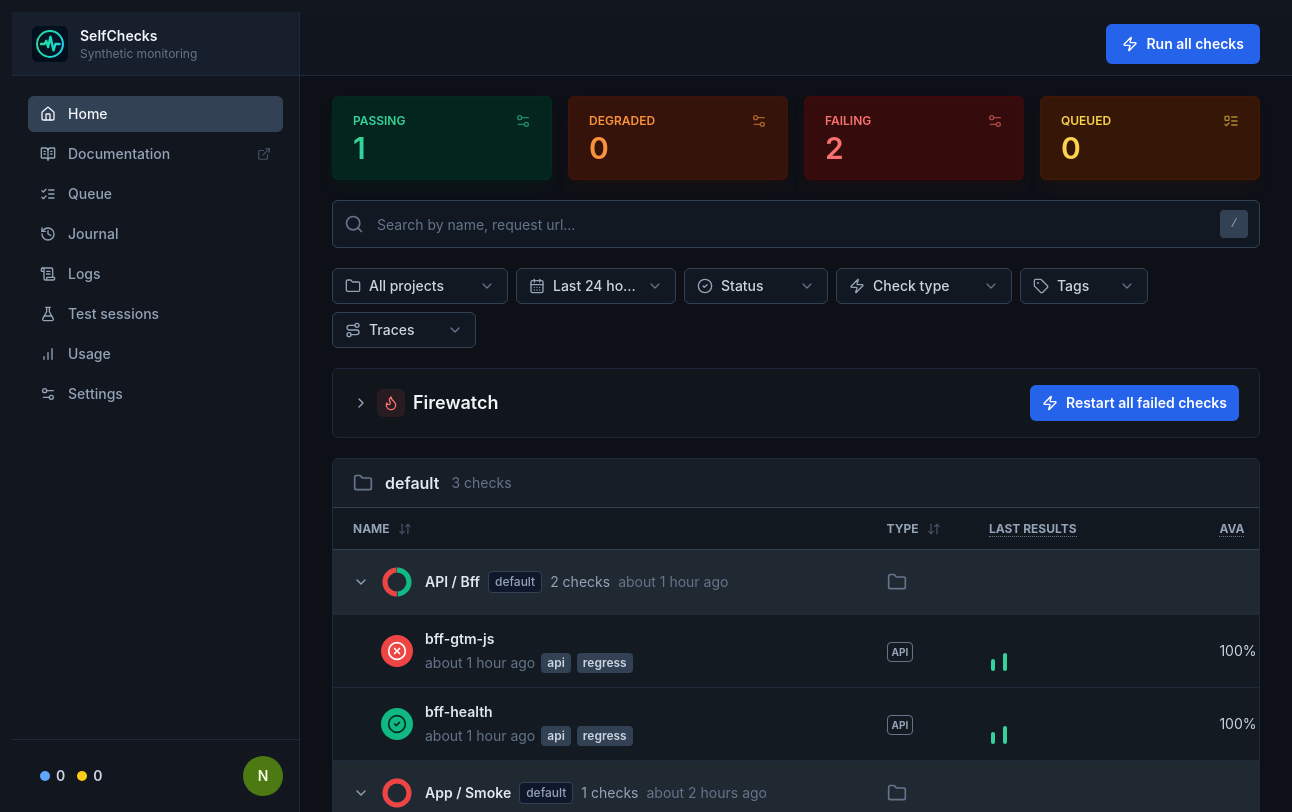
DashboardPage › queues all failed checks from Firewatch even when no rows are newly failing
The image size is (1292, 812).
What coordinates should you click on to do the following:
click the button "Restart all failed checks"
I would click on:
 (1134, 403)
Its box is [1030,385,1239,421].
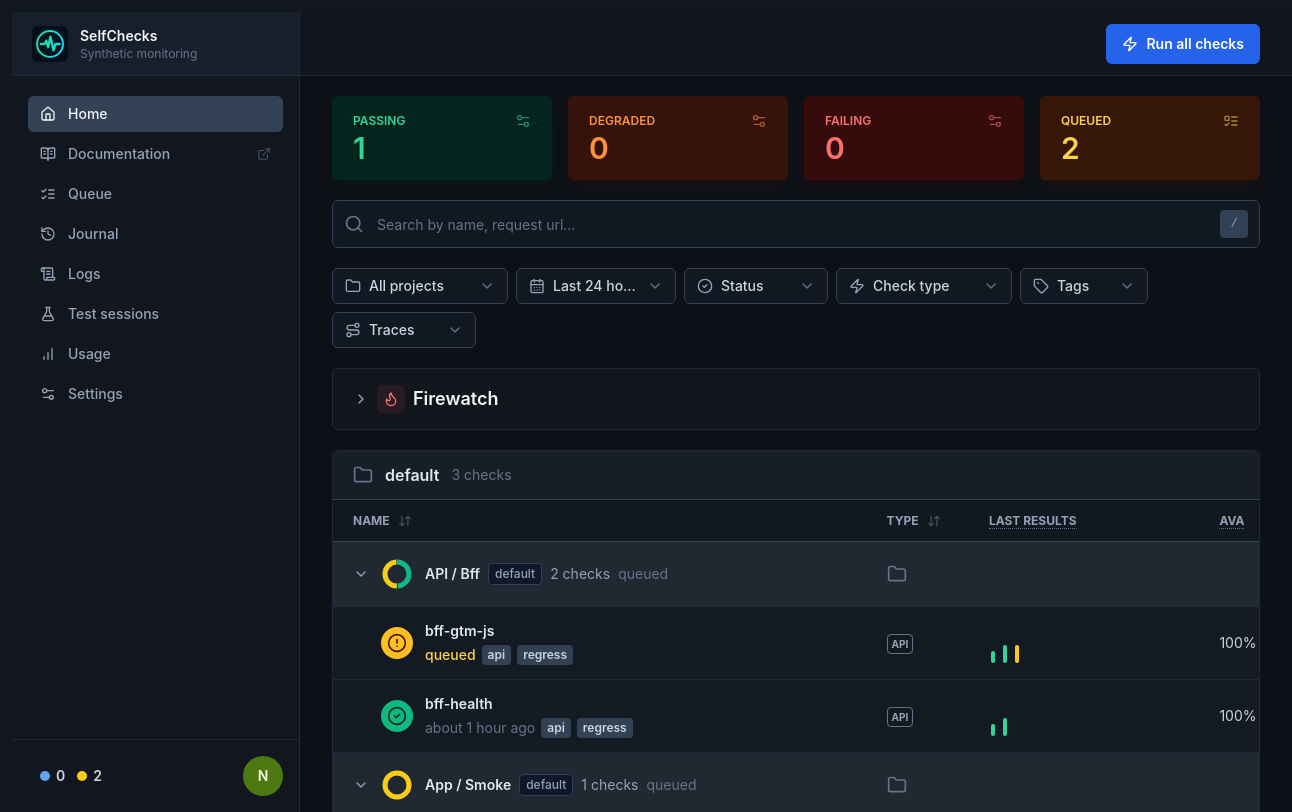
Result: the button "Restart all failed checks" is gone
Result: the 1st text "queued" is shown at [618,564,668,584]
Result: the message named "Running 0, queued 2" is shown at [40,766,102,786]
